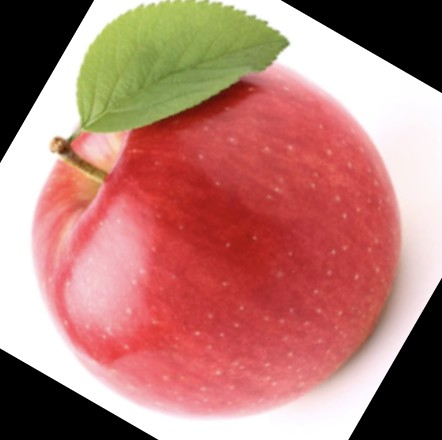fresh_apple: (28, 58, 402, 413)
